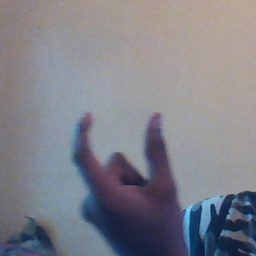U: (71, 104, 176, 235)
